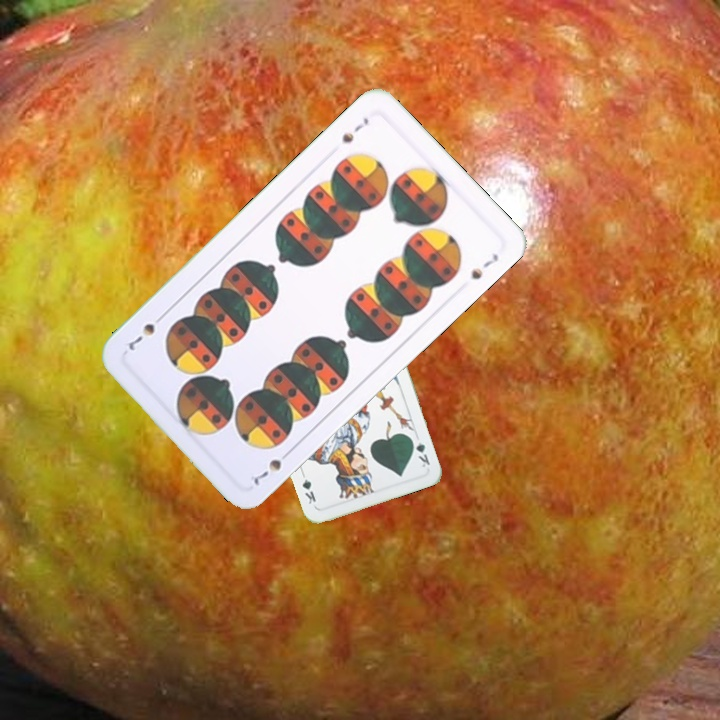GK: (407, 433, 433, 470)
S7: (249, 445, 295, 489), (338, 113, 372, 146)
